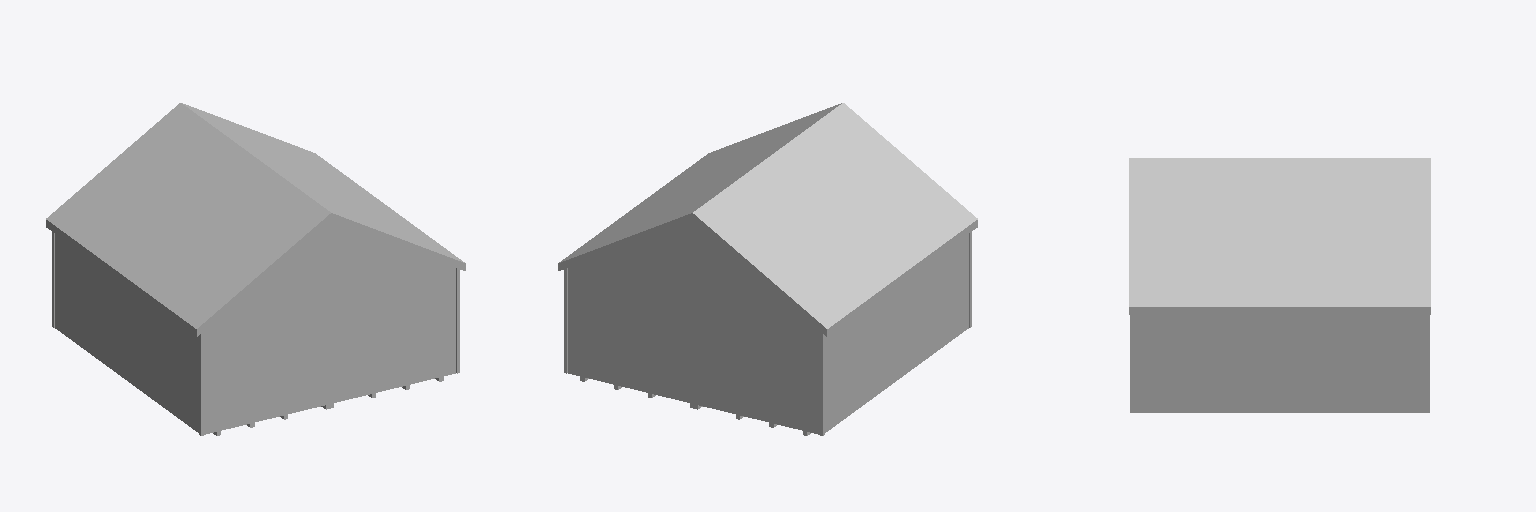
File: Double Garage 6-12 PITCH ROOF_20x20.obj
3 views of the same model, side by side, from view 1: azimuth 30°, elevation 25°; view 2: azimuth 150°, elevation 25°; view 3: azimuth 270°, elevation 25° (orthographic).
Parts seen in each view (by area): view 1: Double Garage 6-12 PITCH ROOF_20x20.obj; view 2: Double Garage 6-12 PITCH ROOF_20x20.obj; view 3: Double Garage 6-12 PITCH ROOF_20x20.obj.
Boxes of the visible parts, <box> form: Double Garage 6-12 PITCH ROOF_20x20.obj: <box>46,103,465,435</box>; Double Garage 6-12 PITCH ROOF_20x20.obj: <box>558,103,977,435</box>; Double Garage 6-12 PITCH ROOF_20x20.obj: <box>1129,158,1430,412</box>.
Bounding box in the file's own units: 6.4 × 4.46 × 6.2.